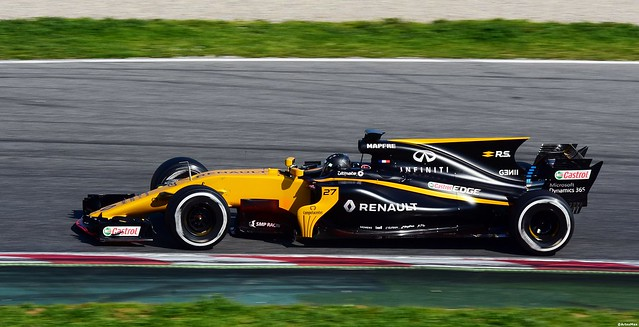F1 Car: (73, 124, 606, 260)
